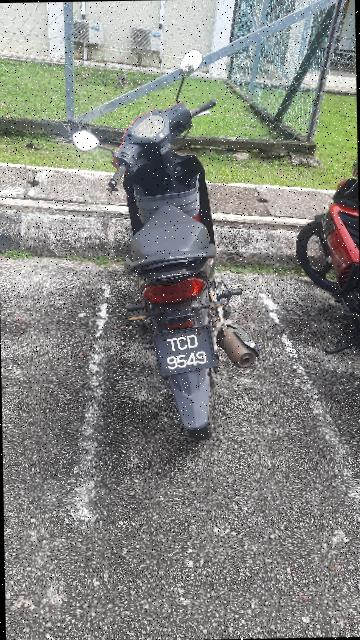License_Plate: (151, 322, 226, 381)
motorcycle: (71, 39, 267, 450)
